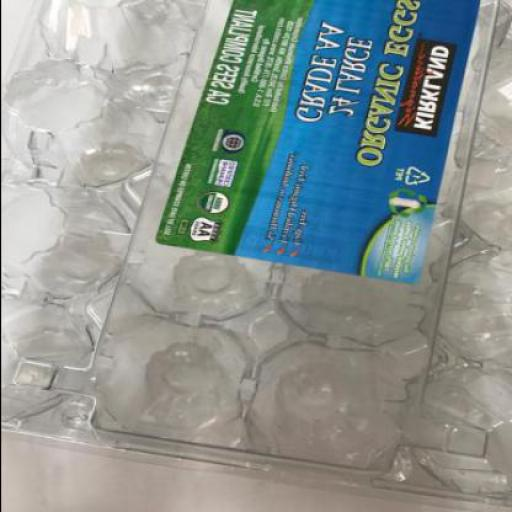plastic: (1, 0, 512, 511)
